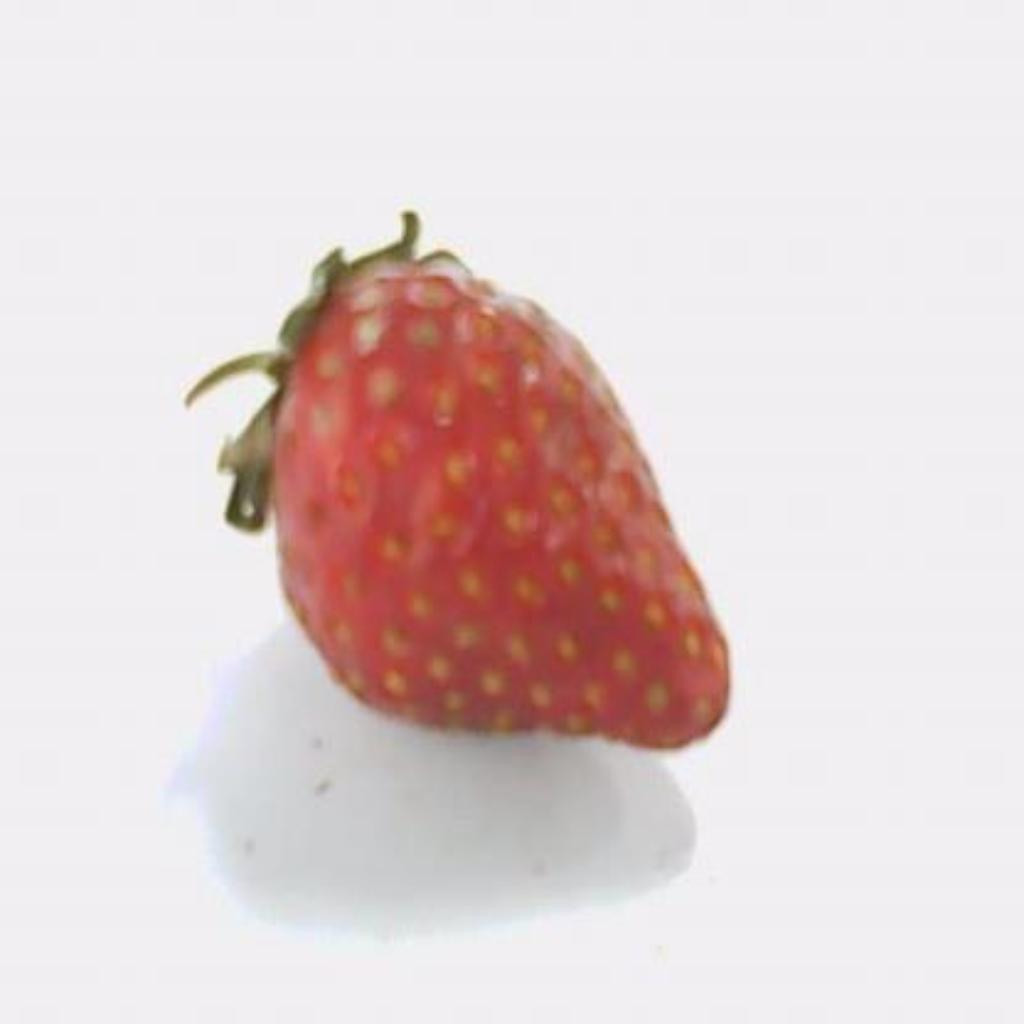strawberry: (187, 212, 728, 747)
